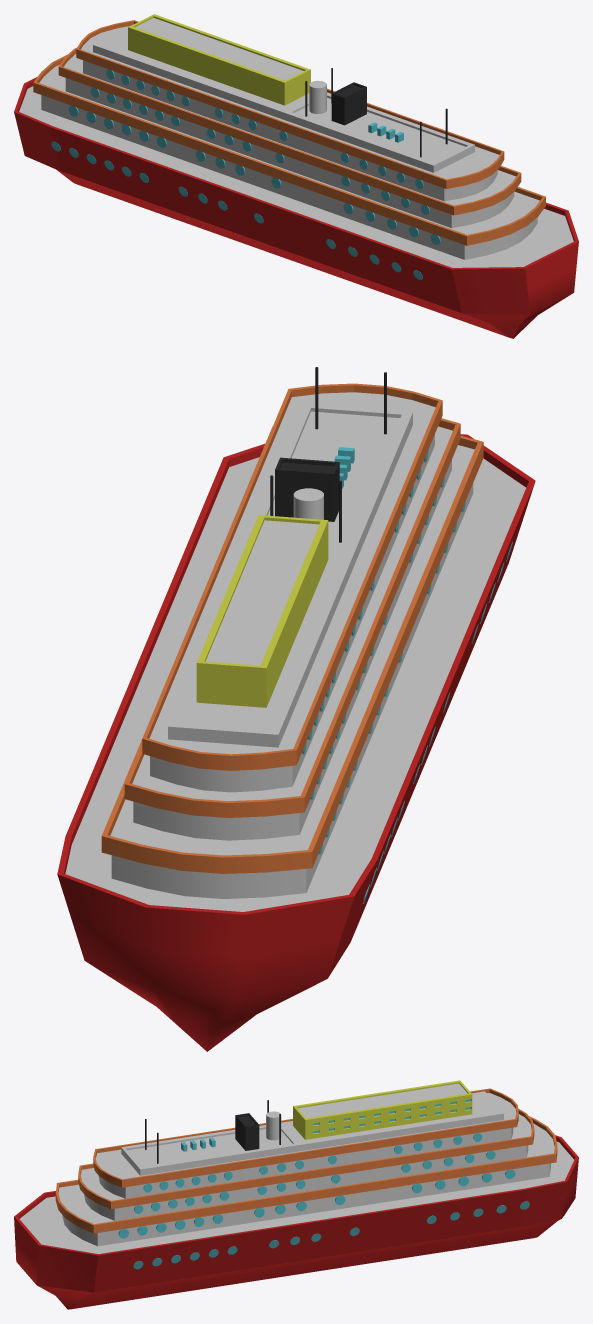
Rendered from Cruiseship.glb.
3 views of the same model, one above another, from view 1: azimuth 30°, elevation 25°; view 2: azimuth 150°, elevation 25°; view 3: azimuth 270°, elevation 25° (orthographic). The views are drawn at different scales.
Visible parts, largest first — view 1: Box20204, Box20195, Box20206, Box20196, Box20202, Box20205, Box20200, Box20201, Box20203, Box20193, Cylinder129; view 2: Box20204, Box20202, Box20195, Box20206, Box20196, Box20200, Box20205, Box20201, Box20203, Box20193, Cylinder129; view 3: Box20204, Box20195, Box20206, Box20196, Box20202, Box20205, Box20200, Box20201, Box20203, Box20193, Cylinder129.
Part boxes in pixels (left/top/right/bottom): Box20204: left=14, top=77, right=578, bottom=338; Box20195: left=93, top=27, right=474, bottom=172; Box20206: left=33, top=54, right=545, bottom=245; Box20196: left=128, top=14, right=310, bottom=105; Box20202: left=76, top=20, right=504, bottom=188; Box20205: left=41, top=95, right=537, bottom=259; Box20200: left=58, top=47, right=521, bottom=215; Box20201: left=65, top=78, right=514, bottom=228; Box20203: left=83, top=60, right=497, bottom=201; Box20193: left=331, top=82, right=366, bottom=125; Cylinder129: left=309, top=80, right=326, bottom=113; Box20204: left=57, top=434, right=535, bottom=1051; Box20202: left=142, top=383, right=442, bottom=770; Box20195: left=168, top=404, right=412, bottom=747; Box20206: left=101, top=426, right=483, bottom=873; Box20196: left=196, top=515, right=328, bottom=707; Box20200: left=124, top=418, right=460, bottom=817; Box20205: left=111, top=483, right=473, bottom=898; Box20201: left=133, top=460, right=451, bottom=840; Box20203: left=150, top=434, right=434, bottom=792; Box20193: left=275, top=457, right=339, bottom=521; Cylinder129: left=293, top=488, right=323, bottom=519; Box20204: left=14, top=1135, right=578, bottom=1309; Box20195: left=121, top=1091, right=503, bottom=1175; Box20206: left=55, top=1116, right=557, bottom=1233; Box20196: left=293, top=1080, right=472, bottom=1139; Box20202: left=93, top=1088, right=518, bottom=1187; Box20205: left=62, top=1163, right=550, bottom=1246; Box20200: left=78, top=1108, right=534, bottom=1209; Box20201: left=84, top=1145, right=528, bottom=1220; Box20203: left=98, top=1127, right=513, bottom=1198; Box20193: left=235, top=1113, right=259, bottom=1150; Cylinder129: left=266, top=1111, right=281, bottom=1140.
Size of the model in its own units: 732 by 435 by 1308.
